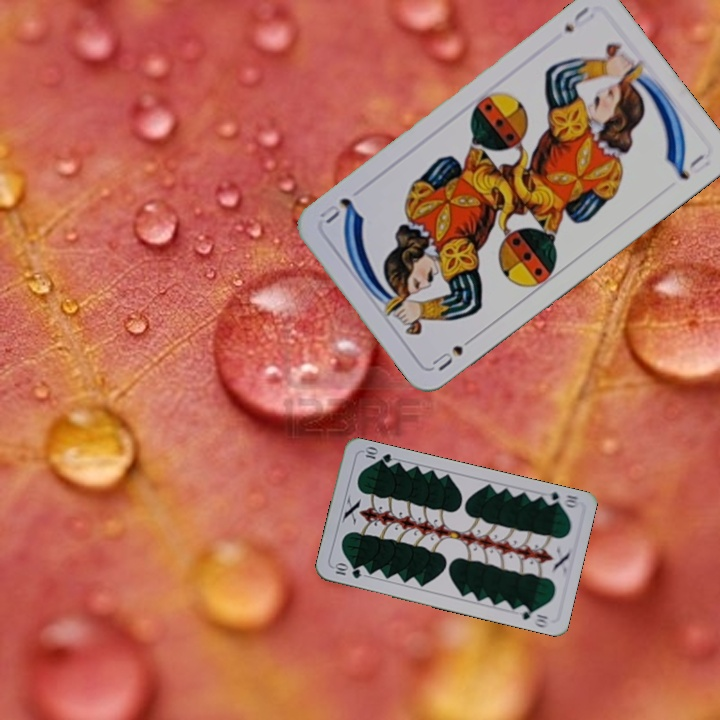G10: (540, 488, 582, 510), (330, 560, 364, 581)
SU: (428, 330, 480, 374), (559, 2, 598, 36)
